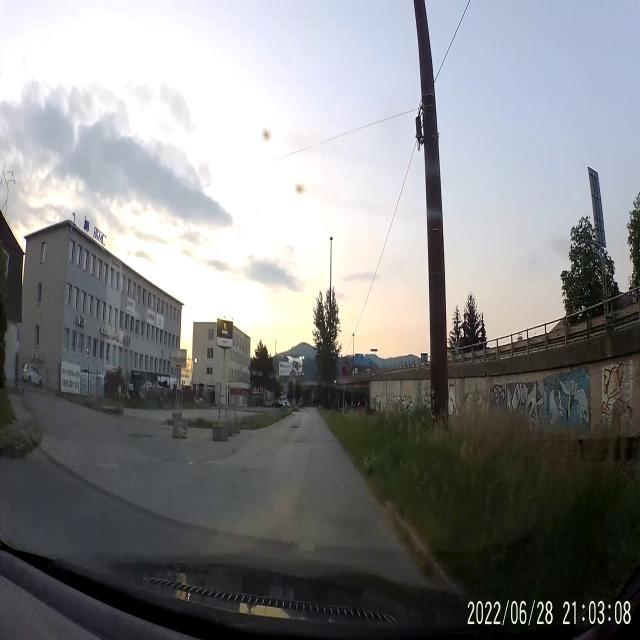Pothole: (324, 438, 336, 446), (288, 424, 299, 430), (295, 439, 303, 446)
